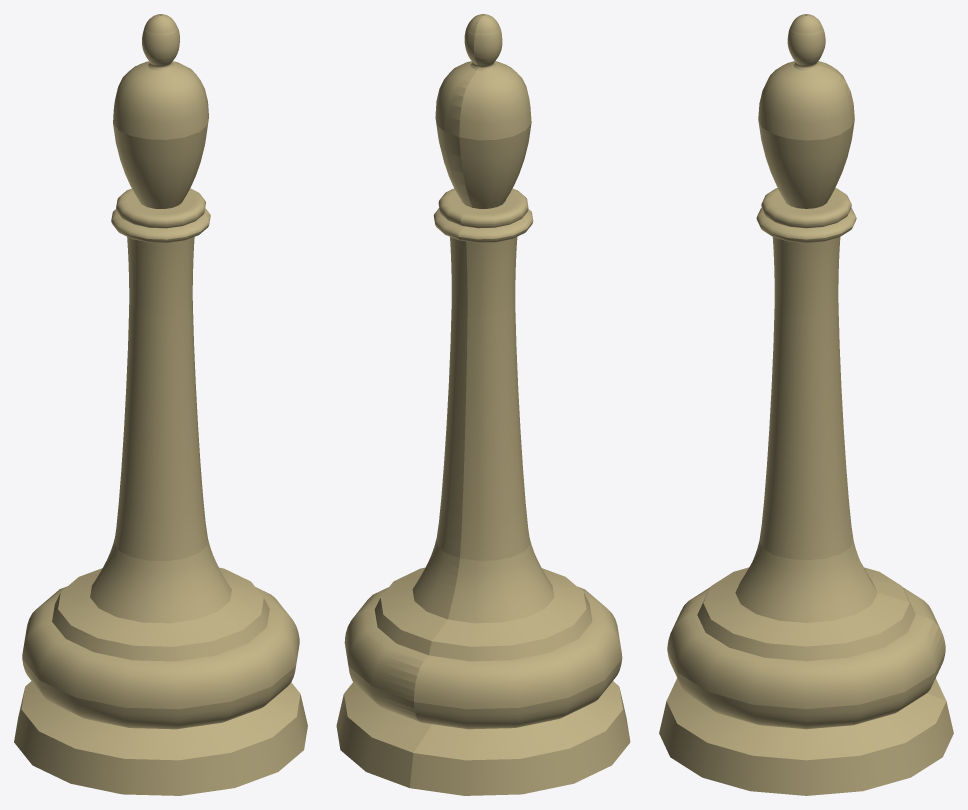
The model's file is Bishop_piece.fbx.
3 renders of one model, left to right at view 1: azimuth 30°, elevation 25°; view 2: azimuth 150°, elevation 25°; view 3: azimuth 270°, elevation 25°, orthographic.
Visible parts, largest first — view 1: Bishop; view 2: Bishop; view 3: Bishop.
Part boxes in pixels (<box>): Bishop: <box>14,14,307,795</box>; Bishop: <box>336,14,630,795</box>; Bishop: <box>659,14,953,795</box>.
Size of the model in its own units: 2.59 by 6.91 by 2.57.
